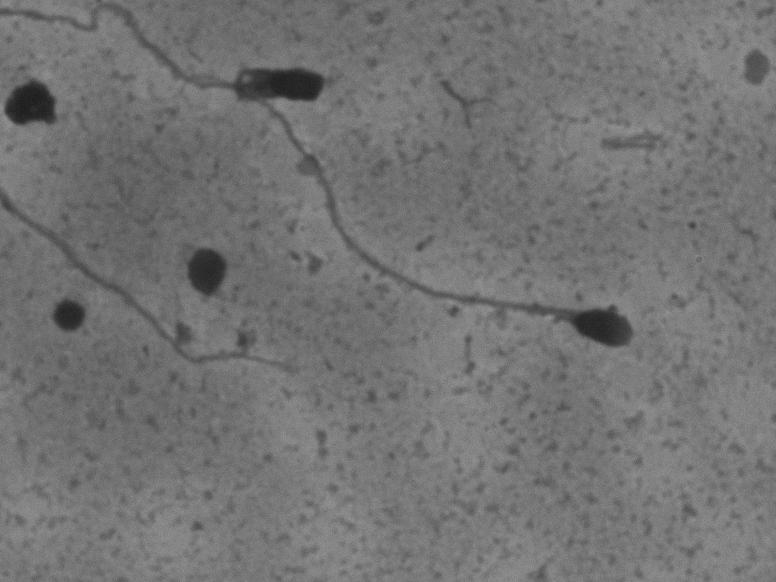Normal: (135, 19, 652, 368)
